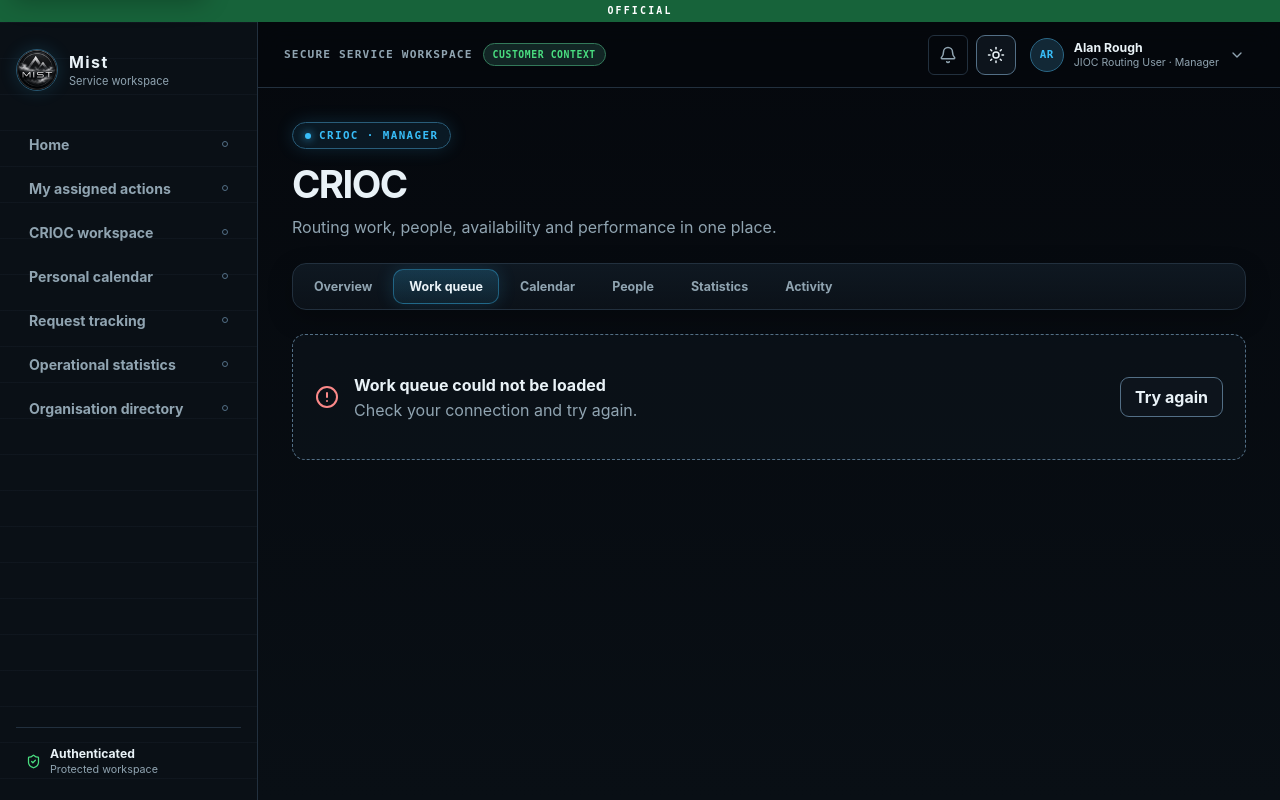
routing organisation workspace › recovers a failed embedded queue read
Check: the heading "Work queue could not be loaded" is shown, box [354,374,637,394]
Click the button "Try again".
click(1172, 397)  # box [1120,377,1223,417]
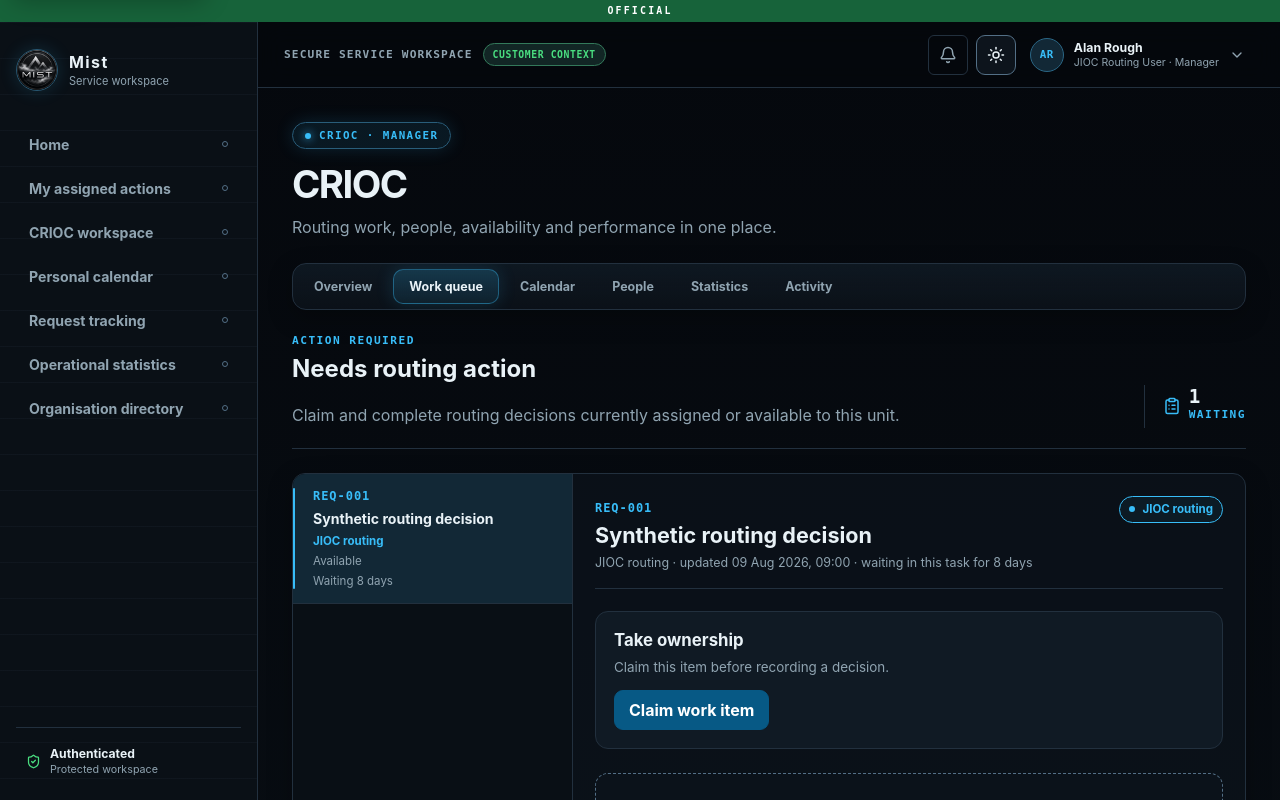
Check: the text "Synthetic routing decision" is shown 2 times, box [313,510,494,527]; [595,522,872,548]
